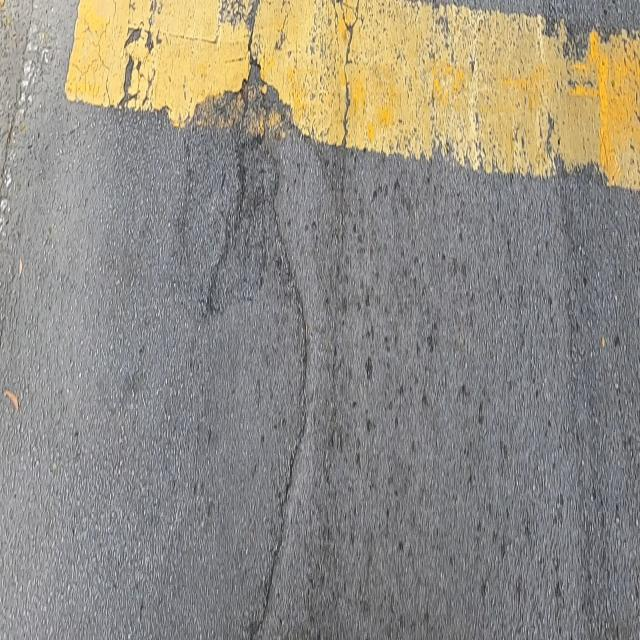Retak-Memanjang: (244, 205, 311, 640), (207, 3, 257, 319)
